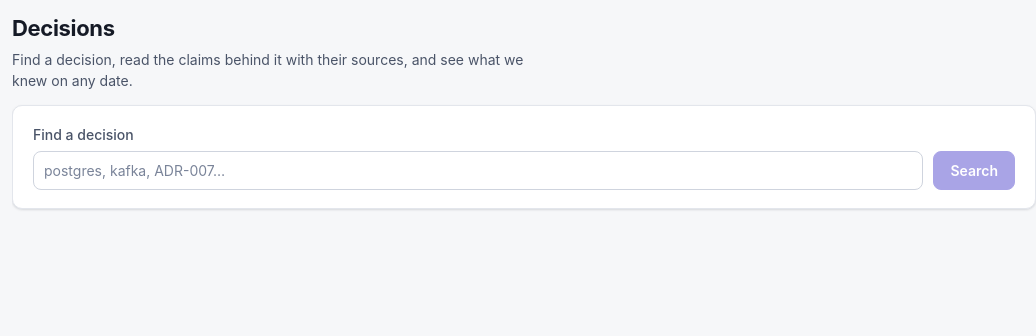
Test: DecisionPage › says so when nothing is visible, and when the decision is hidden
Step 1. Type "nothing" into the field labelled "Find a decision" → (478, 170), box x1=33 y1=151 x2=924 y2=190
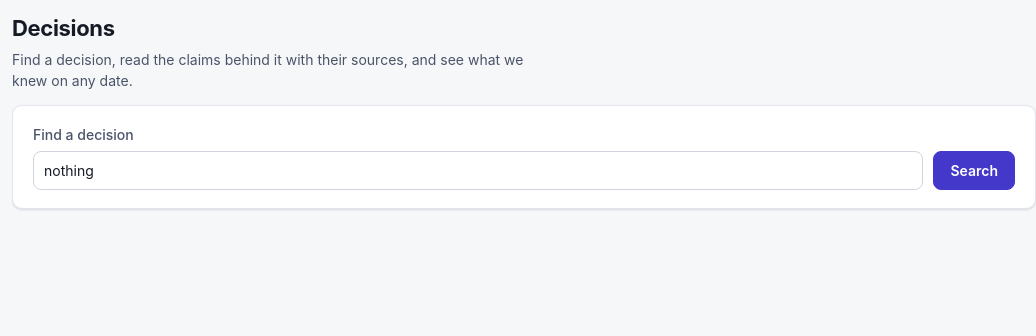
Step 2. Click the button "Search" → (974, 170), box x1=934 y1=151 x2=1015 y2=190
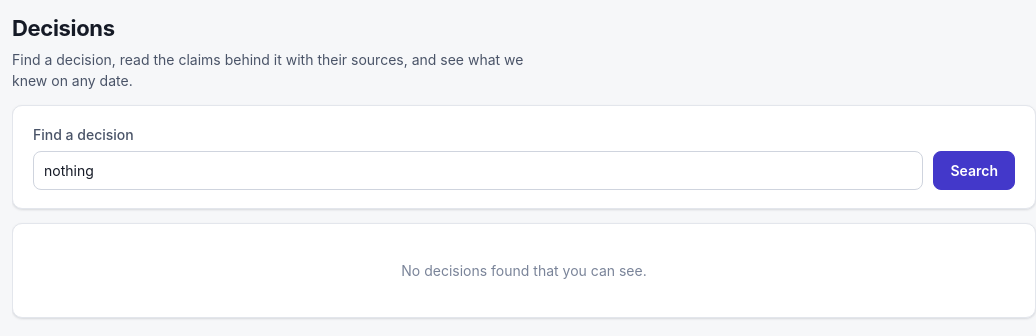
Expected: the text "No decisions found that you can see." is shown, x1=12 y1=223 x2=1035 y2=318
